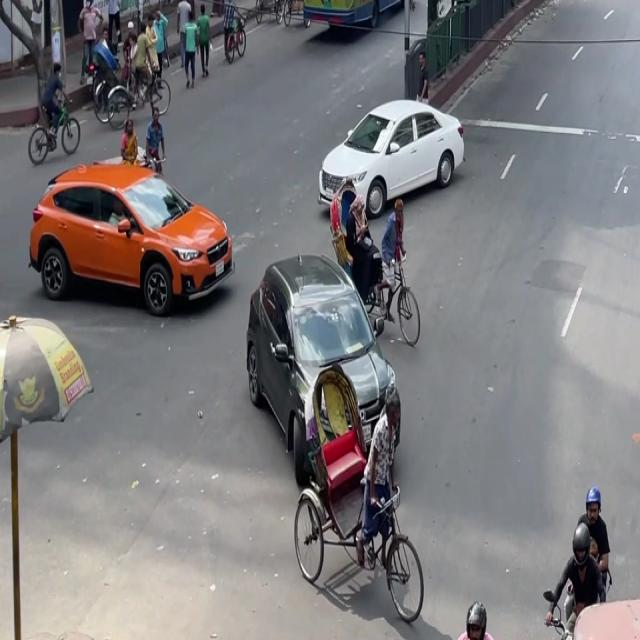bicycle: (27, 98, 89, 164), (224, 20, 252, 64)
bus: (298, 0, 412, 27)
car: (237, 248, 406, 494), (23, 148, 243, 333), (314, 76, 467, 230)
motorbike: (526, 468, 628, 633)
